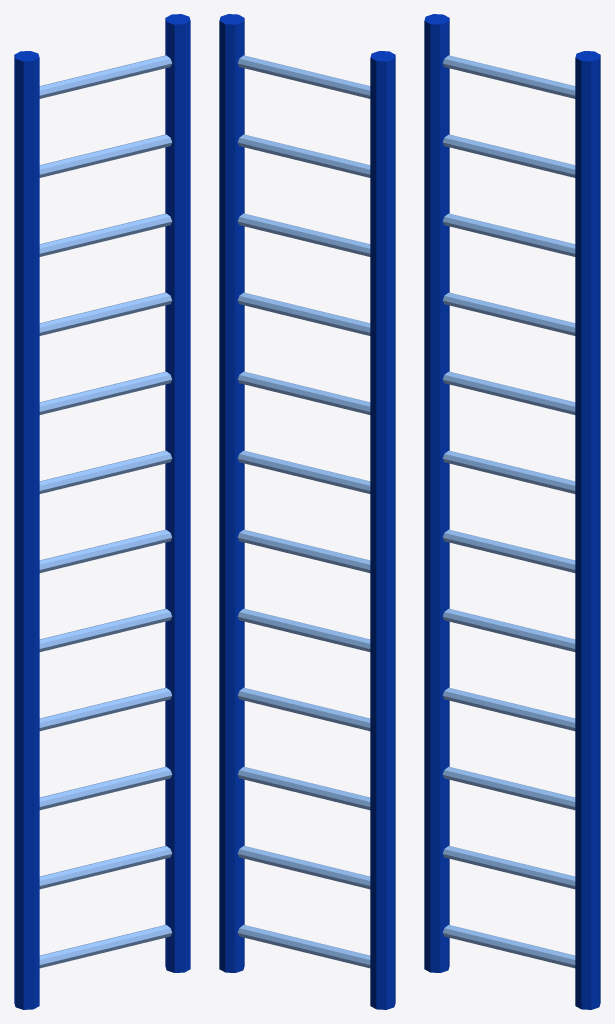
Rendered from Low_Poly_Ladder_02_Medium.obj.
The picture shows the model from 3 angles, left to right: view 1: azimuth 30°, elevation 25°; view 2: azimuth 150°, elevation 25°; view 3: azimuth 330°, elevation 25°; orthographic projection.
Parts seen in each view (by area): view 1: Low_Poly_Ladder_02_Medium_Circle.001; view 2: Low_Poly_Ladder_02_Medium_Circle.001; view 3: Low_Poly_Ladder_02_Medium_Circle.001.
Boxes of the visible parts, x1=… form: Low_Poly_Ladder_02_Medium_Circle.001: x1=14, y1=14, x2=190, y2=1009; Low_Poly_Ladder_02_Medium_Circle.001: x1=219, y1=14, x2=395, y2=1009; Low_Poly_Ladder_02_Medium_Circle.001: x1=424, y1=14, x2=600, y2=1009.
Bounding box in the file's own units: 2.3 × 12 × 0.3.
